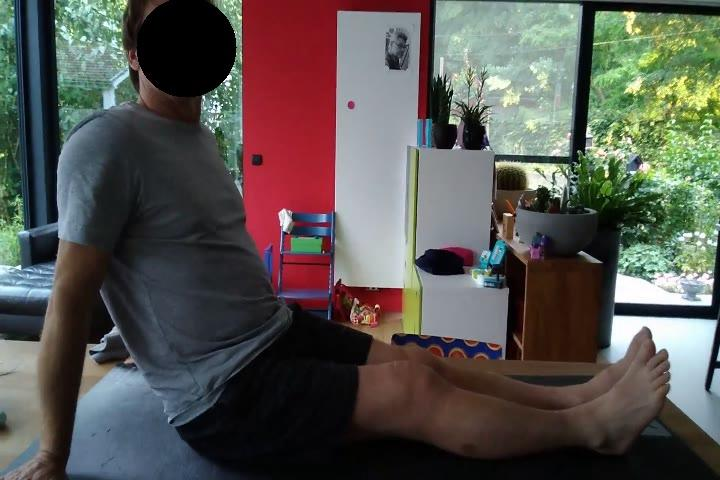lower_body: (182, 322, 673, 464)
